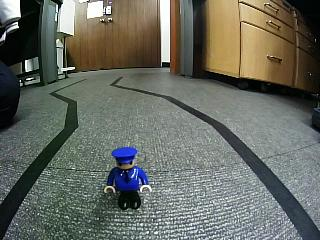person: (104, 147, 153, 210)
